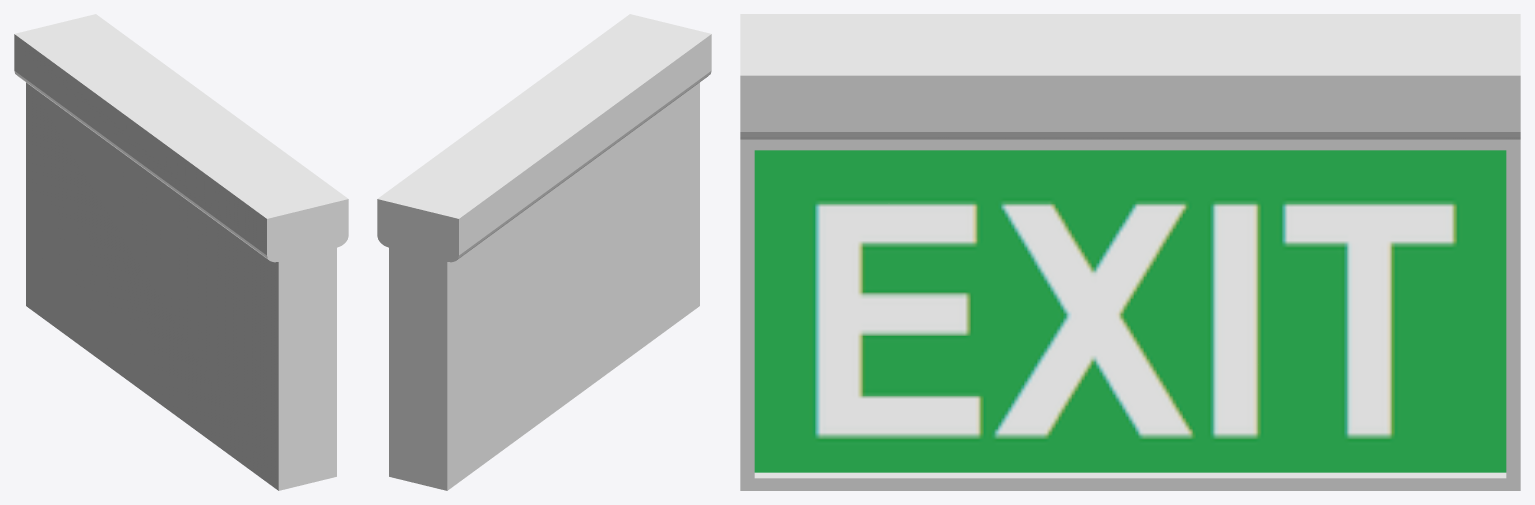
Rendered from exit_sign.glb.
The picture shows the model from 3 angles, left to right: view 1: azimuth 30°, elevation 25°; view 2: azimuth 150°, elevation 25°; view 3: azimuth 270°, elevation 25°; orthographic projection. The views are drawn at different scales.
Visible parts, largest first — view 1: Object_3, Object_4; view 2: Object_3, Object_4; view 3: Object_2, Object_4.
Boxes of the visible parts, x1,y1,x2,y2 form: Object_3: [26, 82, 336, 490]; Object_4: [14, 14, 348, 262]; Object_3: [389, 82, 699, 490]; Object_4: [377, 14, 711, 262]; Object_2: [754, 150, 1506, 472]; Object_4: [740, 14, 1520, 490].
Size of the model in its own units: 0.56 by 1.8 by 3.
3 materials, 1 textured.
